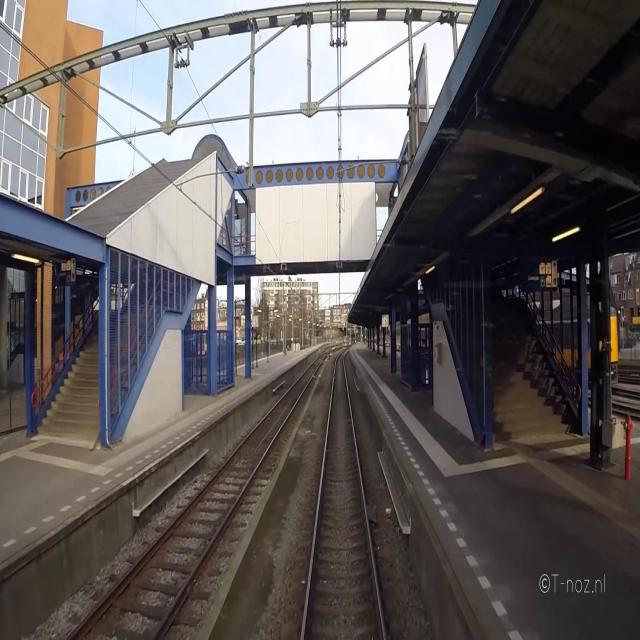rail-track: (73, 360, 319, 639), (305, 355, 382, 639)
